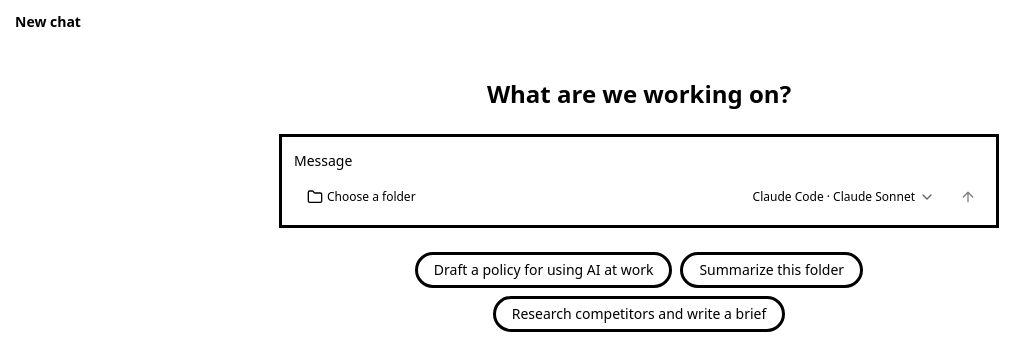
a new chat › asks what we are working on, and sends only what is written
Expected: the heading "What are we working on?" is shown, x1=487 y1=78 x2=791 y2=110
Expected: the button named "Send" is disabled, x1=952 y1=181 x2=984 y2=213
Type "Hello" into the text box labelled "Message" at (639, 161), box x1=294 y1=149 x2=984 y2=173
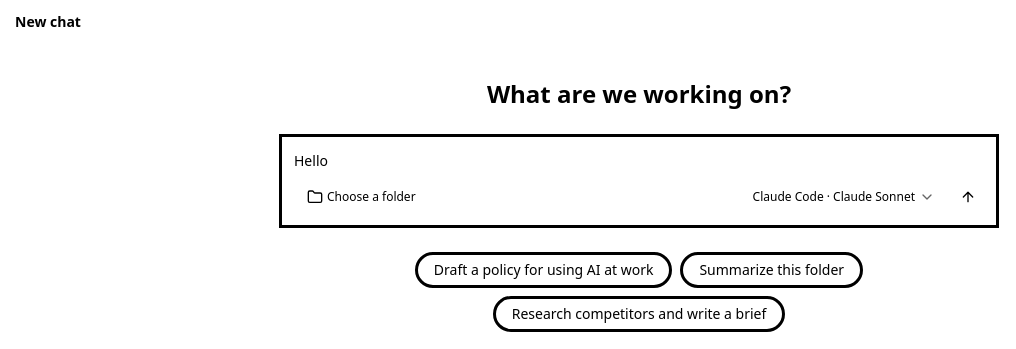
Now the button named "Send" is enabled, box x1=952 y1=181 x2=984 y2=213
